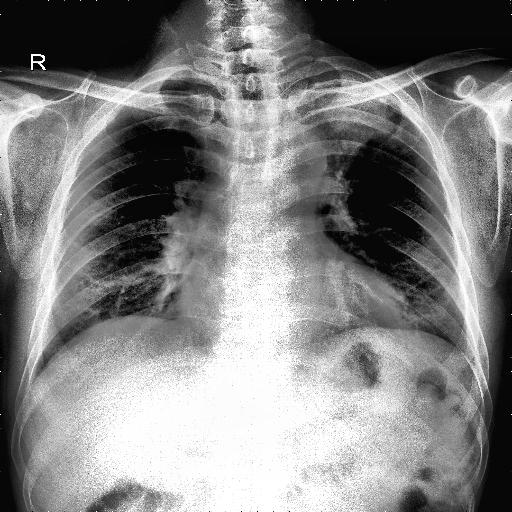0- Aortic enlargement: (247, 116, 325, 184), (263, 123, 327, 184)
1- Atelectasis: (288, 68, 398, 160)
3- Cardiomegaly: (172, 283, 406, 349), (174, 264, 408, 328), (172, 280, 414, 338)
4- Consolidation: (282, 58, 402, 200), (291, 89, 394, 195)
7- Lung Opacity: (282, 58, 402, 200), (288, 68, 398, 160)
